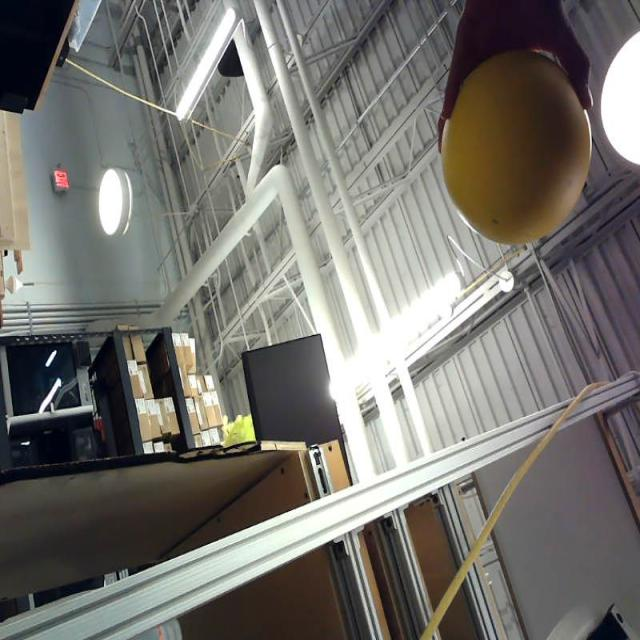Fuel: (441, 48, 592, 245)
